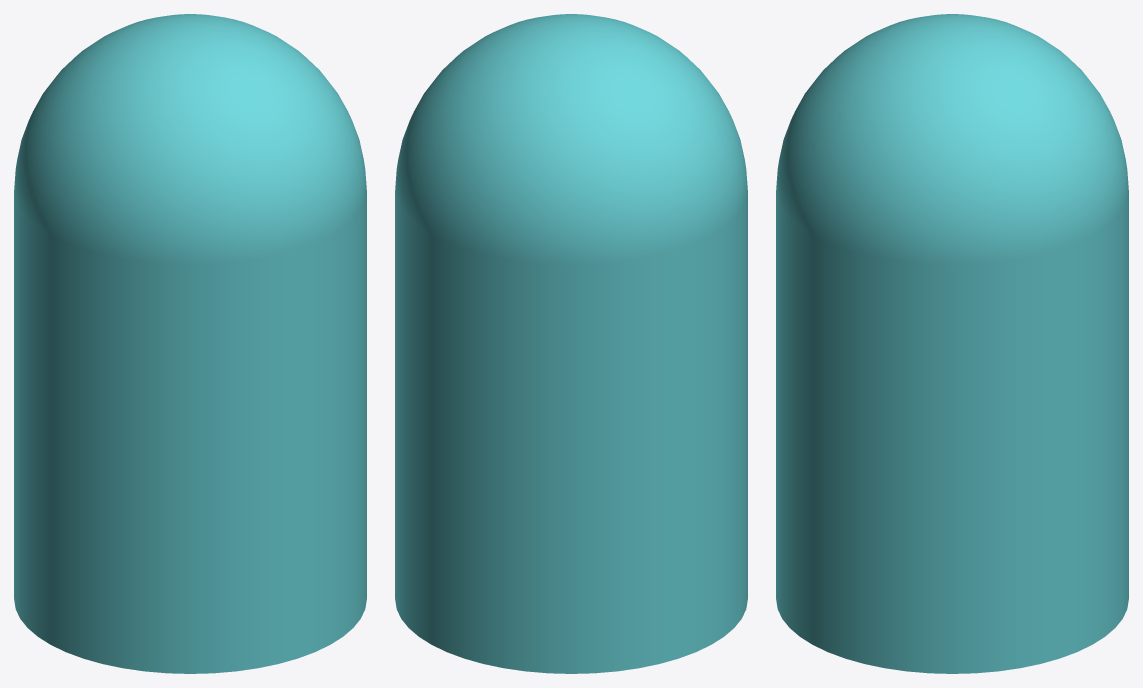
The model's file is ice.gltf.
3 renders of one model, left to right at view 1: azimuth 30°, elevation 25°; view 2: azimuth 150°, elevation 25°; view 3: azimuth 270°, elevation 25°, orthographic.
Visible parts, largest first — view 1: glace v2; view 2: glace v2; view 3: glace v2.
Boxes of the visible parts, <box> form: glace v2: <box>14,14,366,673</box>; glace v2: <box>395,14,747,673</box>; glace v2: <box>776,14,1128,673</box>.
Bounding box in the file's own units: 8.2 × 14.6 × 8.2.
